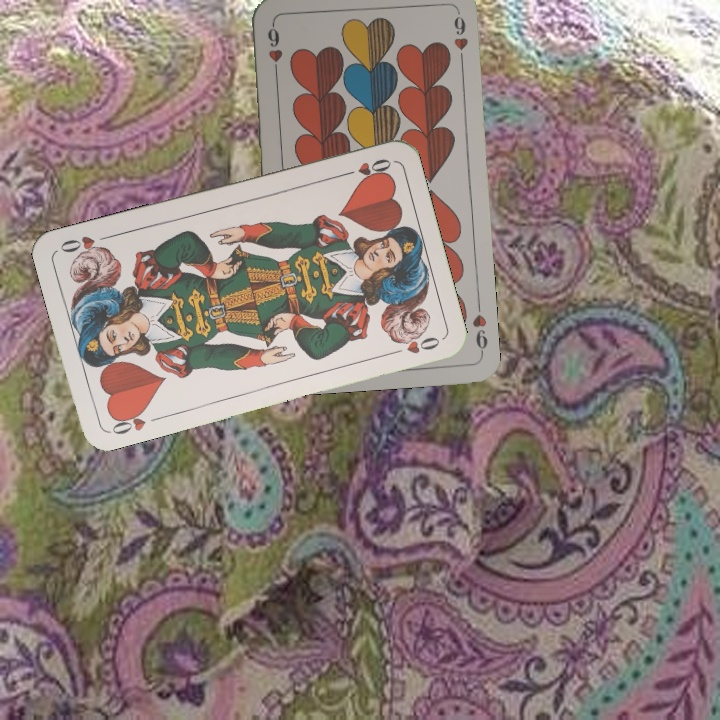H9: (263, 21, 285, 80), (468, 298, 490, 357)
HO: (336, 154, 395, 181), (105, 404, 149, 437)
